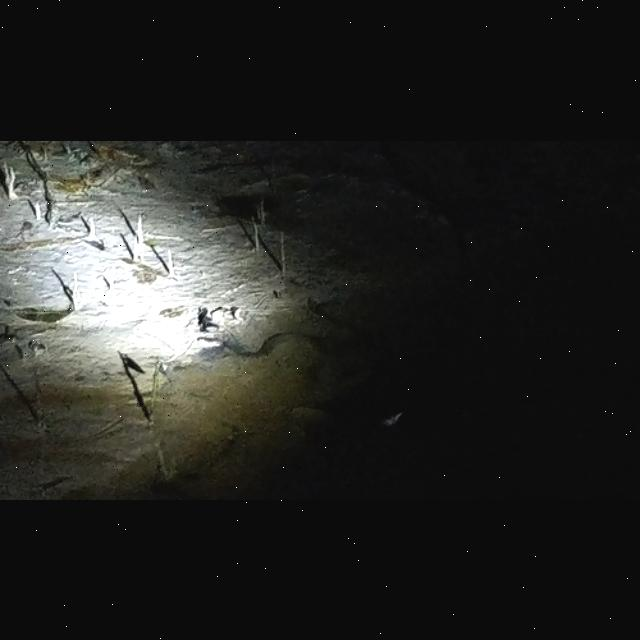snake: (222, 300, 374, 364)
